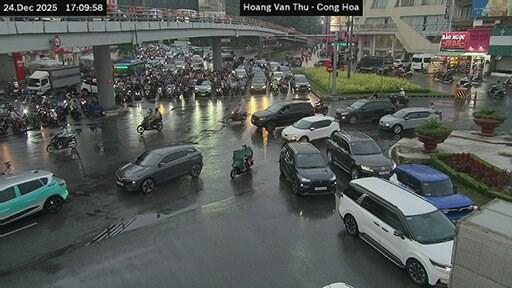motorbike: (230, 148, 252, 178), (45, 135, 76, 152), (226, 108, 246, 124), (83, 103, 105, 116), (389, 94, 408, 107), (10, 117, 25, 131), (486, 86, 505, 97), (313, 99, 326, 115), (143, 118, 161, 129), (70, 103, 79, 118), (458, 80, 472, 89), (441, 72, 453, 81), (400, 67, 412, 76), (0, 117, 6, 134), (472, 75, 482, 85), (432, 72, 444, 80), (278, 82, 287, 91), (504, 76, 511, 85), (272, 84, 278, 93), (135, 127, 143, 133)
